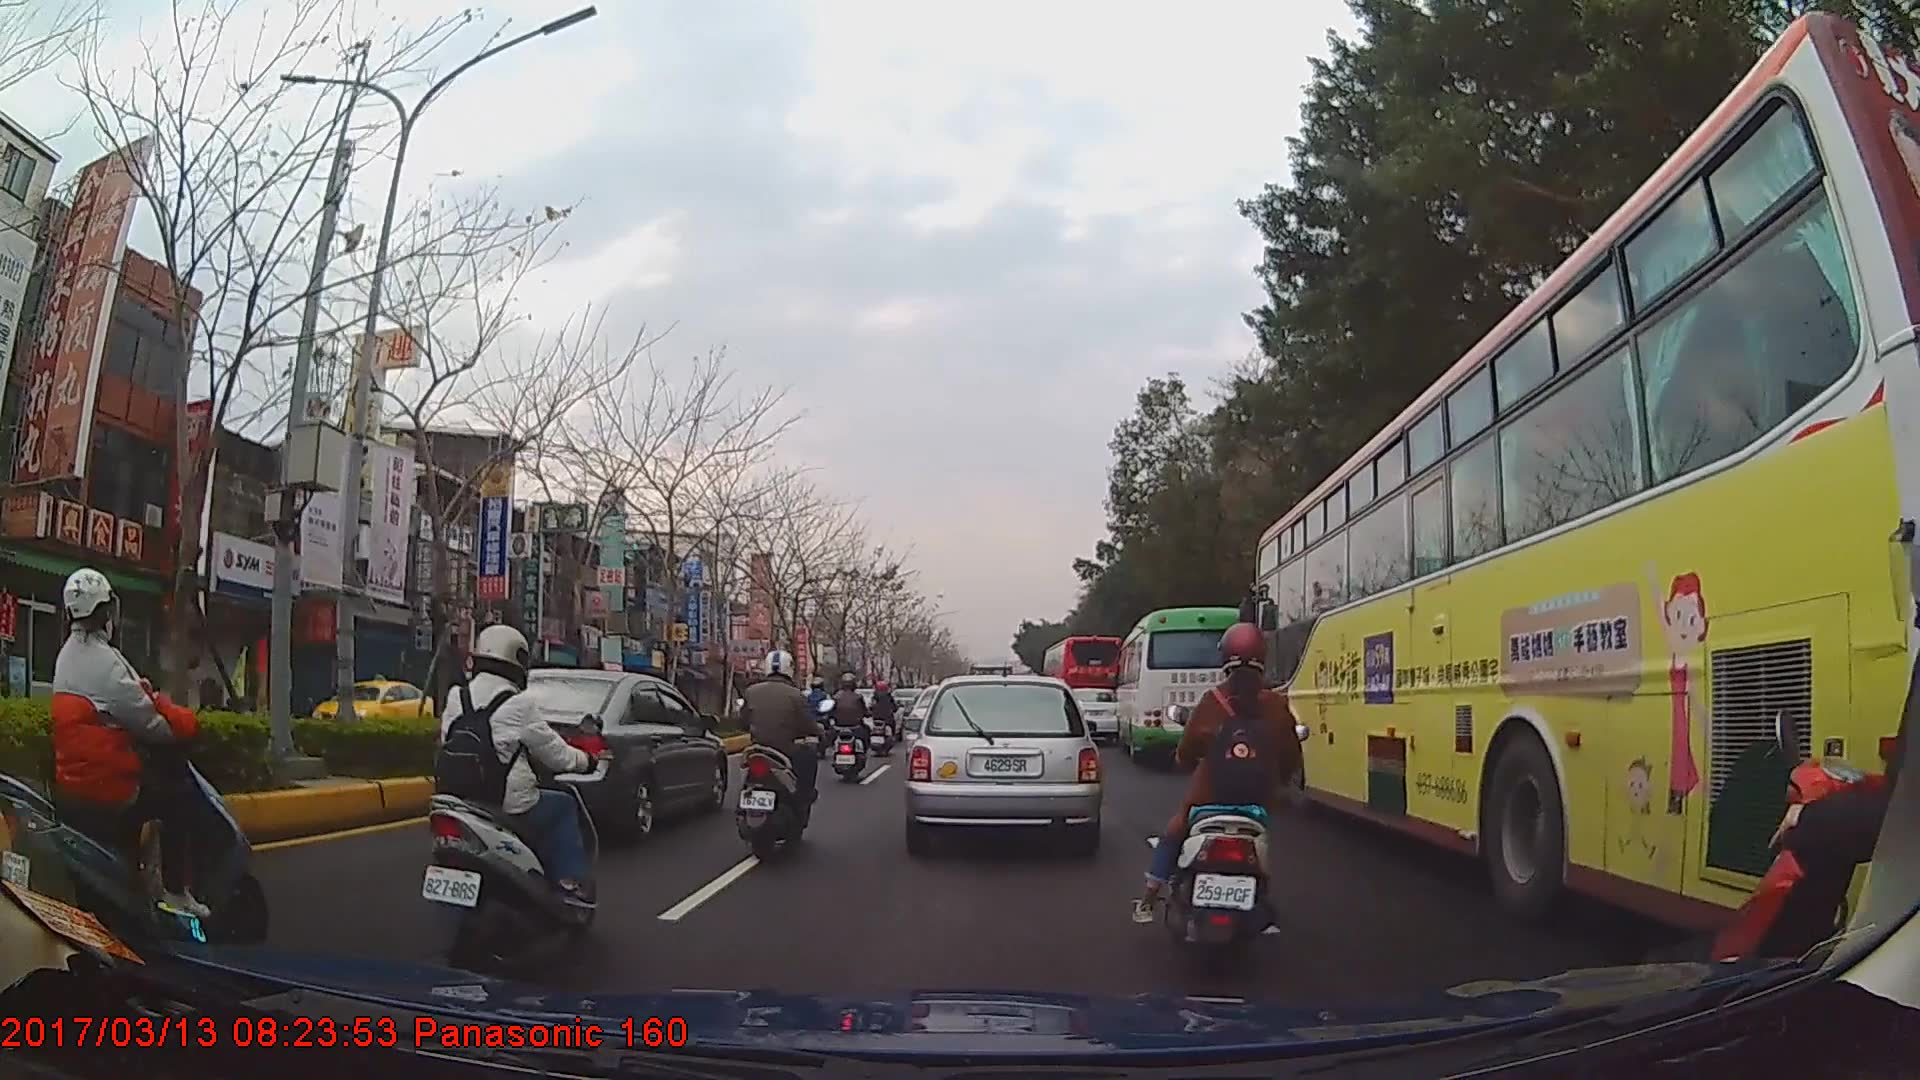rider: (1707, 514, 1920, 1045), (3, 566, 269, 972), (423, 624, 609, 969), (1146, 621, 1312, 984), (738, 649, 829, 864), (829, 673, 870, 783), (869, 679, 899, 758), (805, 675, 837, 743)
vehicle: (1256, 16, 1920, 941), (430, 665, 728, 842), (906, 671, 1101, 850), (1115, 604, 1263, 764), (304, 670, 438, 745), (1043, 633, 1129, 735)
